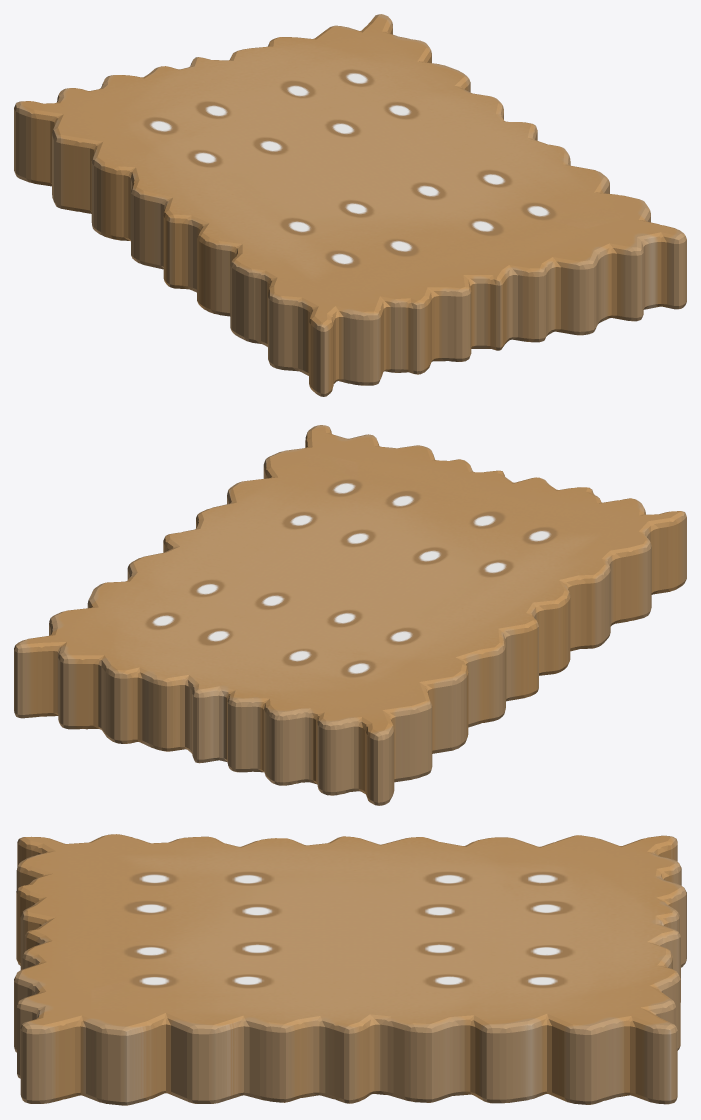
File: biscuit.glb
3 renders of one model, top to bottom at view 1: azimuth 30°, elevation 25°; view 2: azimuth 150°, elevation 25°; view 3: azimuth 270°, elevation 25°, orthographic. The views are drawn at different scales.
Parts seen in each view (by area): view 1: Plane; view 2: Plane; view 3: Plane.
Boxes of the visible parts, x1,y1,x2,y2 form: Plane: (14, 14, 686, 396); Plane: (14, 425, 686, 805); Plane: (14, 834, 686, 1105).
Size of the model in its own units: 0.6123 by 0.1137 by 0.8799.
1 material, 1 textured.
